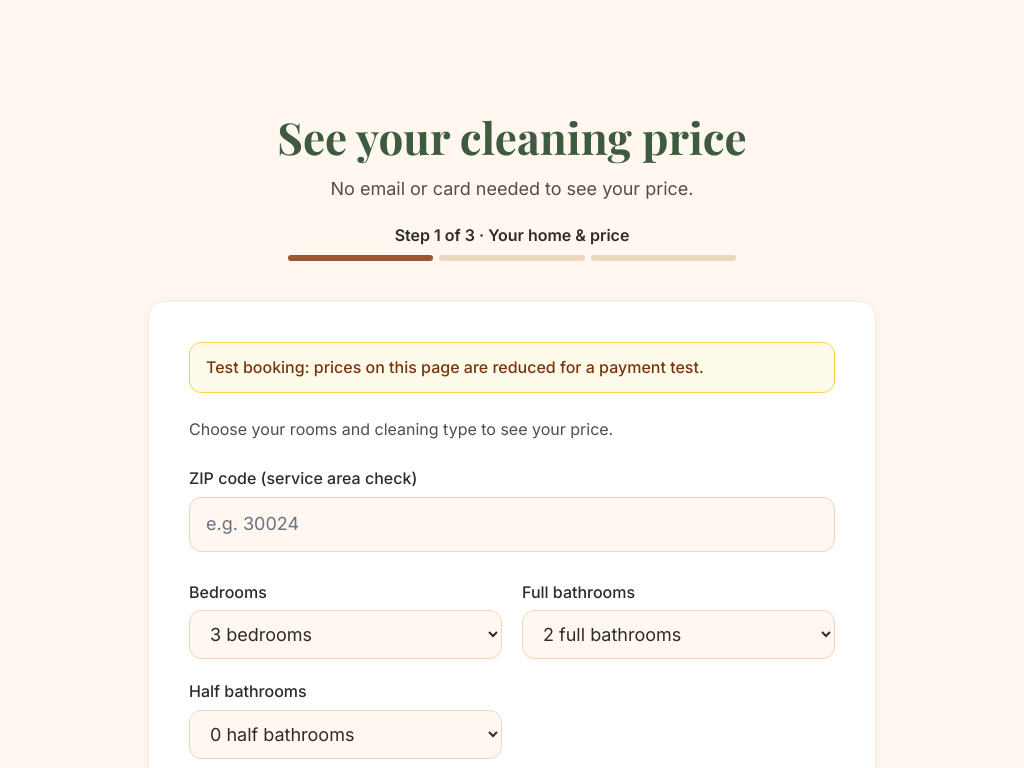
Scenario: fix8 — clarity: no jargon in client-facing copy › quote step 1 has no jargon in the price box
Type "30024" into the field labelled "ZIP code (service area check)" at (512, 524), box [189,497,835,552]
(page scrolled)
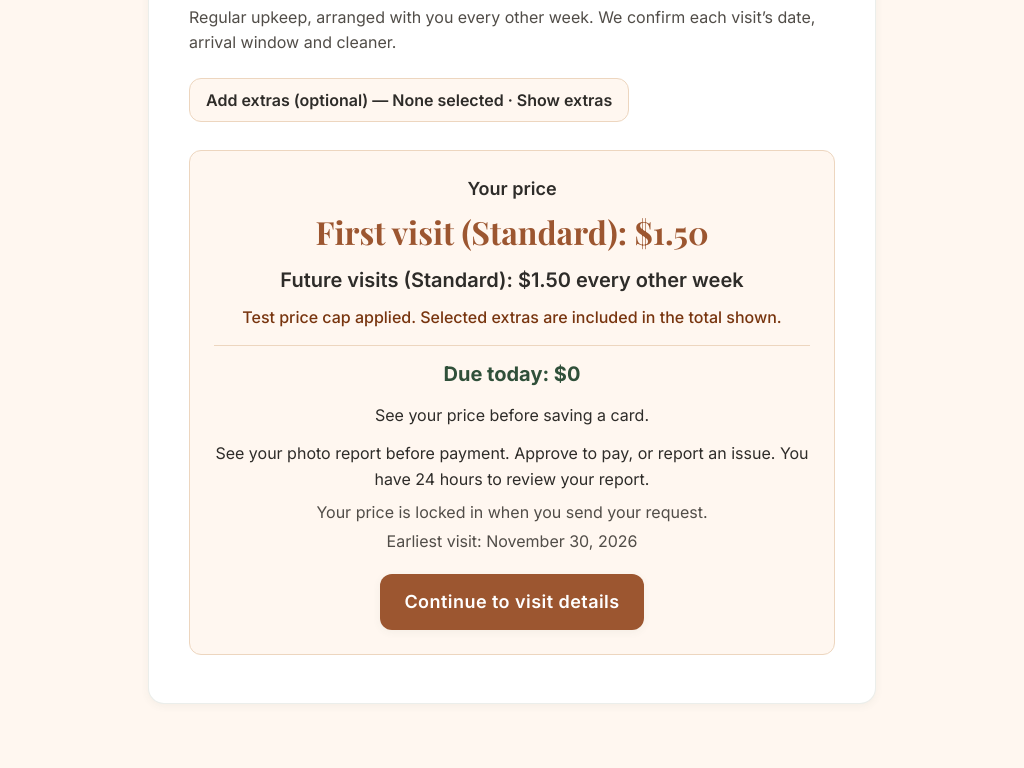
Result: the text "Your price is locked in when you send your request." is shown at [316,502,708,522]
